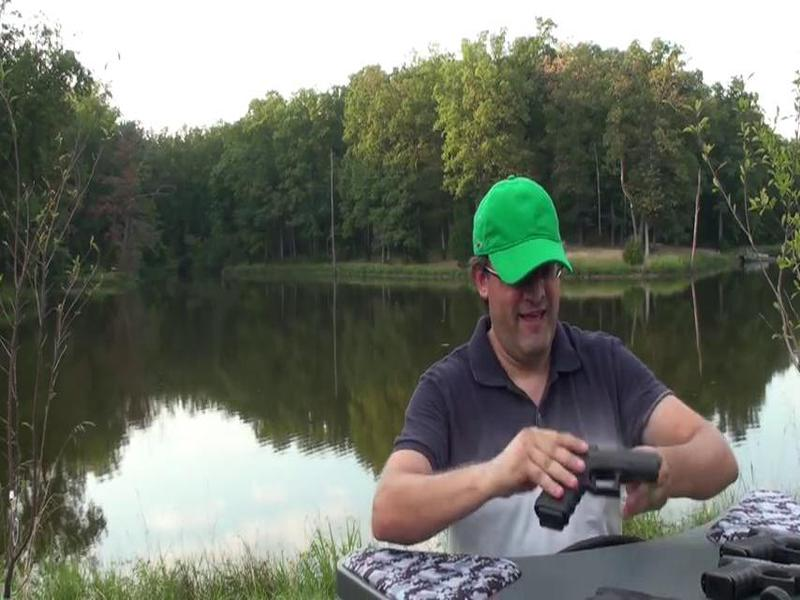Pistola: (514, 430, 677, 550)
